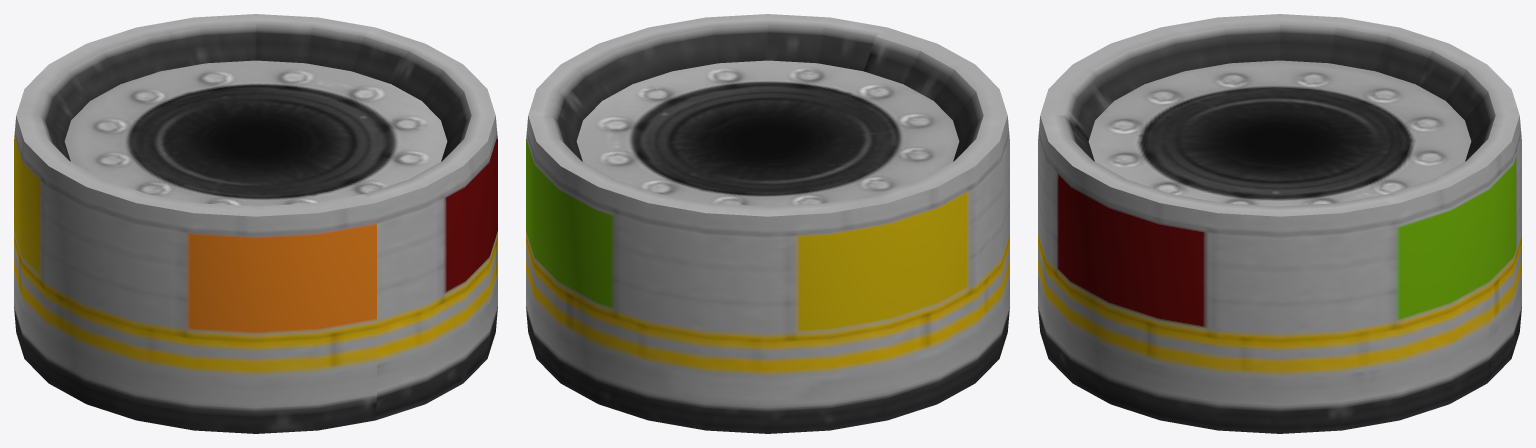
File: rcsTank.DAE
3 views of the same model, side by side, from view 1: azimuth 30°, elevation 25°; view 2: azimuth 150°, elevation 25°; view 3: azimuth 270°, elevation 25° (orthographic).
Parts seen in each view (by area): view 1: RCS_fueltank; view 2: RCS_fueltank; view 3: RCS_fueltank.
Part boxes in pixels (left/top/right/bottom): RCS_fueltank: left=14, top=14, right=497, bottom=433; RCS_fueltank: left=526, top=14, right=1009, bottom=433; RCS_fueltank: left=1038, top=14, right=1521, bottom=433.
Size of what is drawn, in the model's own units: 1.01 by 0.5 by 1.01.
